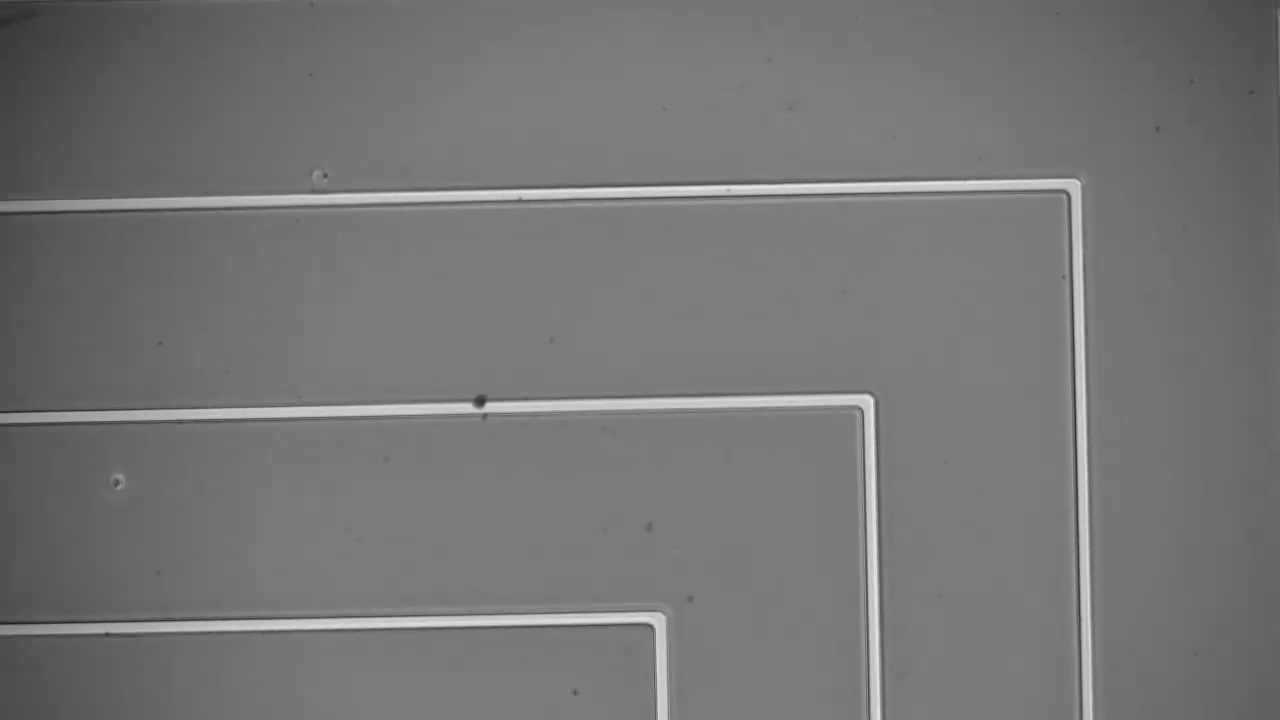stains_enbedded: (464, 385, 503, 427)
